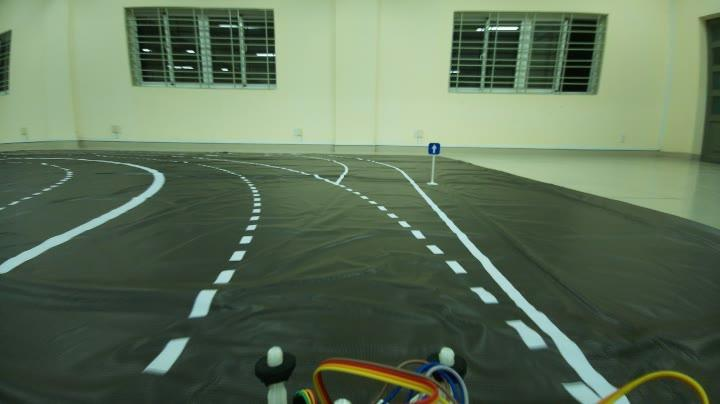onewayroad: (421, 133, 444, 162)
